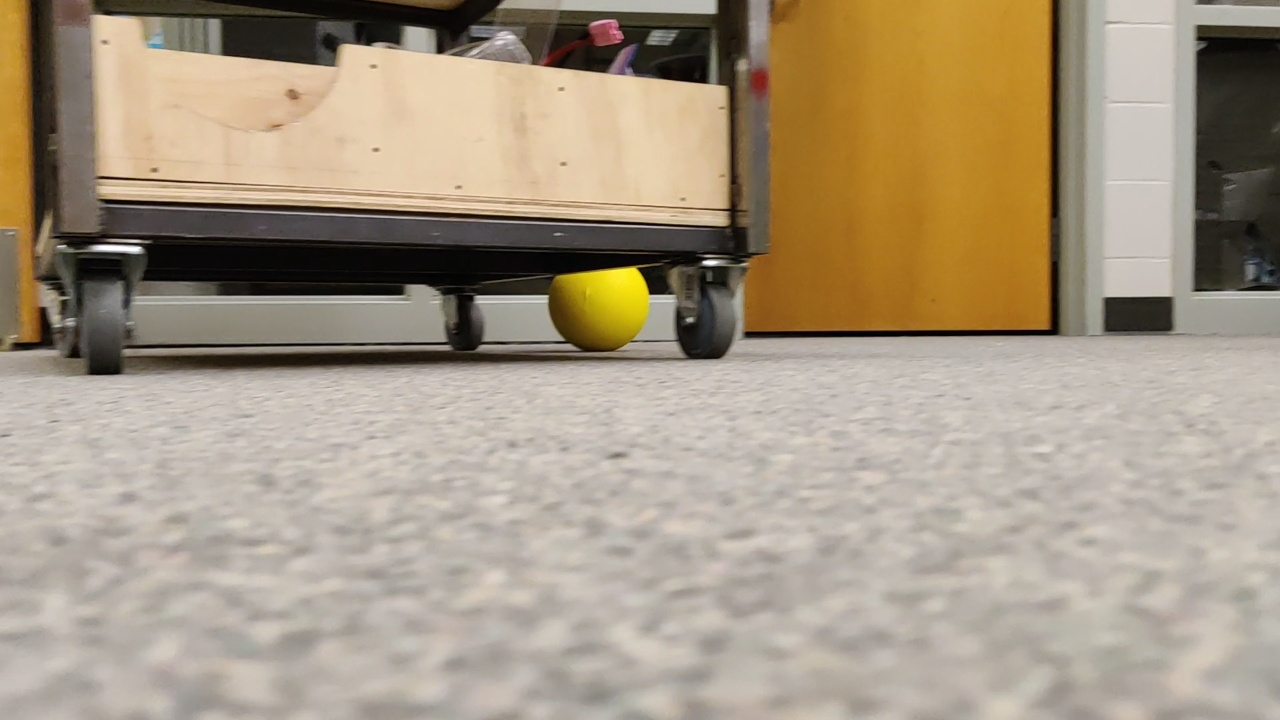Ball: (542, 250, 656, 364)
